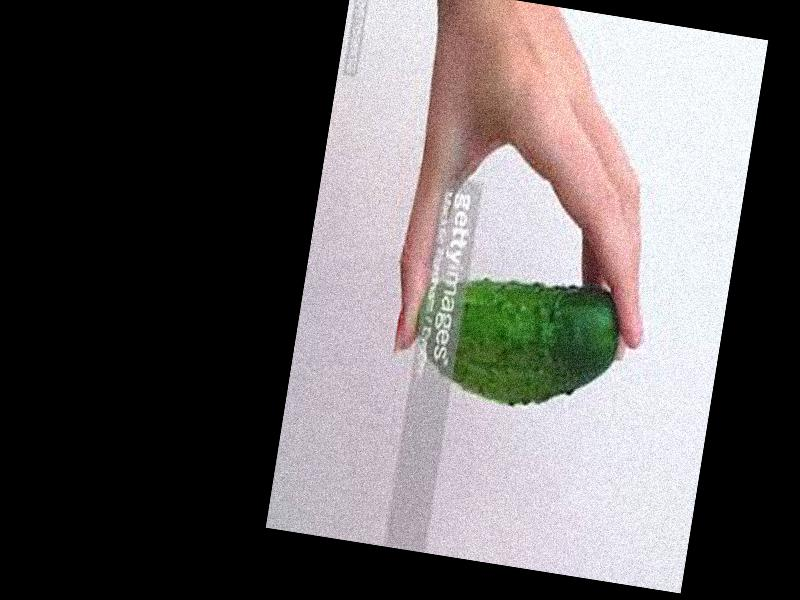Cucumber: (405, 262, 625, 421)
